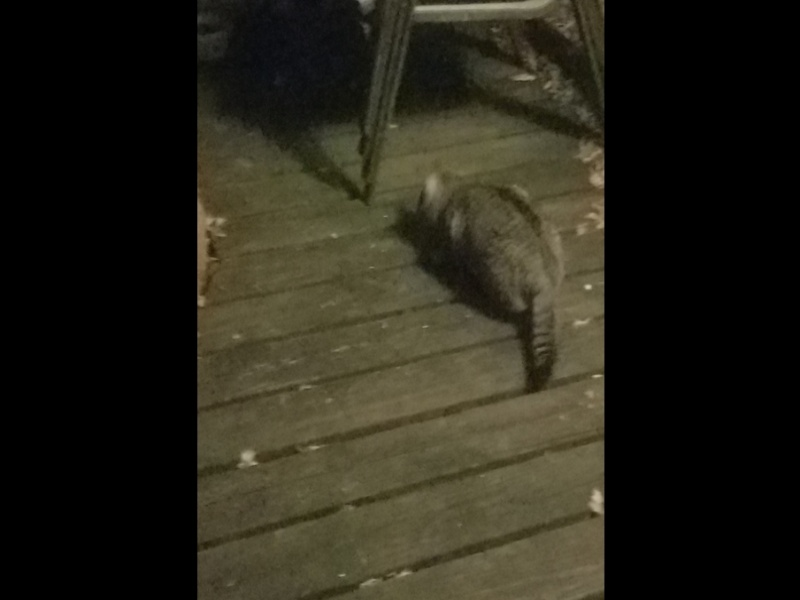cat: (414, 169, 566, 381)
